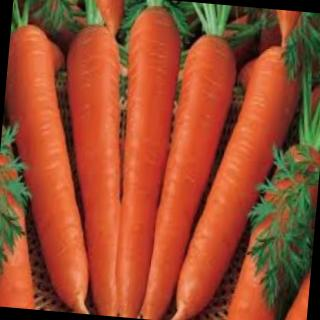Wortel: (171, 39, 306, 320), (1, 21, 117, 315), (46, 1, 143, 315), (139, 28, 243, 320), (106, 1, 185, 317)
